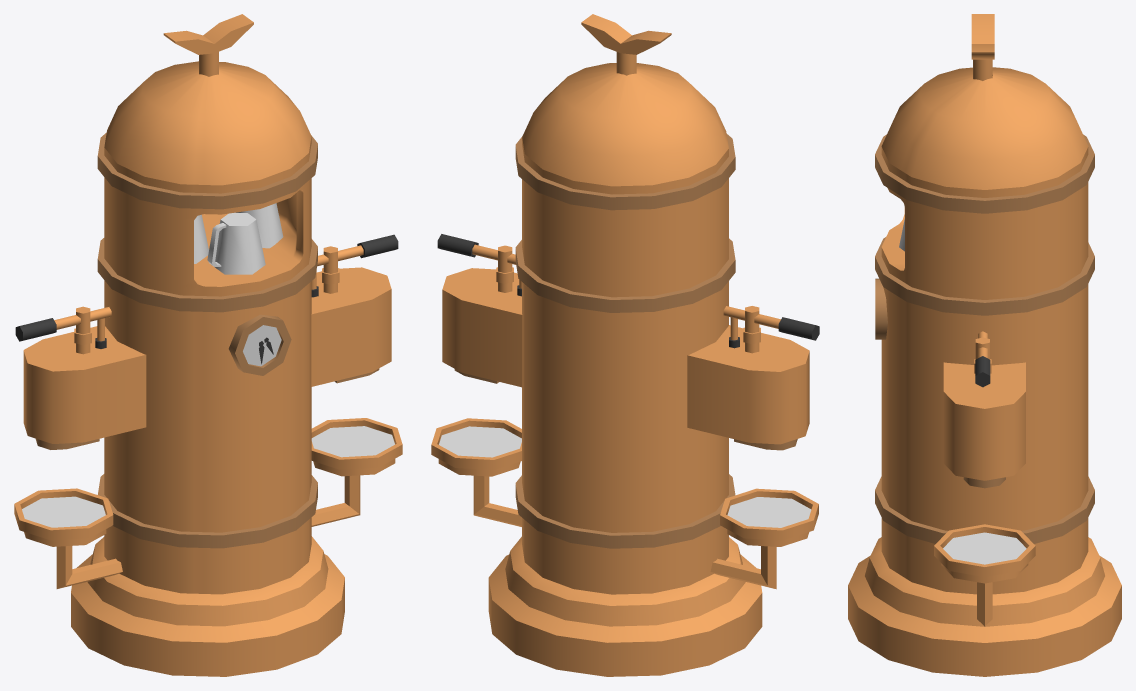
The model's file is CoffeeMachine_02.fbx.
3 renders of one model, left to right at view 1: azimuth 30°, elevation 25°; view 2: azimuth 150°, elevation 25°; view 3: azimuth 270°, elevation 25°, orthographic.
Visible parts, largest first — view 1: CoffeeMachine_02; view 2: CoffeeMachine_02; view 3: CoffeeMachine_02.
Boxes of the visible parts, x1=… form: CoffeeMachine_02: x1=14, y1=14, x2=402, y2=676; CoffeeMachine_02: x1=431, y1=14, x2=819, y2=676; CoffeeMachine_02: x1=848, y1=14, x2=1121, y2=676.
Bounding box in the file's own units: 0.4948 × 0.7382 × 0.3126.
